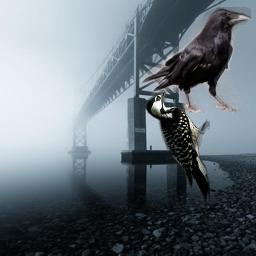Crow: (140, 7, 251, 113)
Woodpecker: (145, 86, 210, 206)
